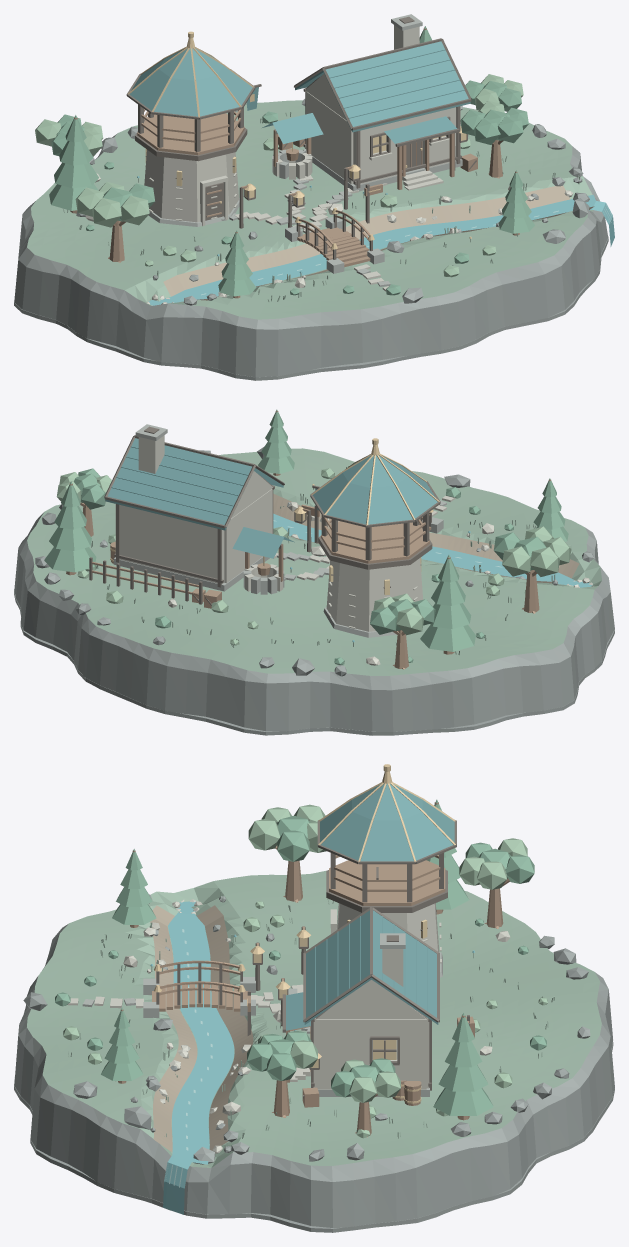
Rendered from creekside-yup-v03.glb.
3 views of the same model, one above another, from view 1: azimuth 30°, elevation 25°; view 2: azimuth 150°, elevation 25°; view 3: azimuth 270°, elevation 25° (orthographic). The views are drawn at different scales.
Visible parts, largest first — view 1: Terrain_Water__grass, Terrain_Water__cliff, Buildings_Bridge__roof, Buildings_Bridge__stone, Nature__leaf, Buildings_Bridge__wood_dark, Buildings_Bridge__wood, Terrain_Water__soil, Nature__leaf_light, Terrain_Water__water, Buildings_Bridge__stone_dark, Props_Paths__stone (+6 smaller); view 2: Terrain_Water__grass, Terrain_Water__cliff, Buildings_Bridge__roof, Buildings_Bridge__stone, Nature__leaf, Buildings_Bridge__wood_dark, Nature__leaf_light, Buildings_Bridge__wood, Buildings_Bridge__stone_dark, Terrain_Water__water, Terrain_Water__soil, Nature__wood (+5 smaller); view 3: Terrain_Water__grass, Terrain_Water__cliff, Buildings_Bridge__roof, Nature__leaf, Buildings_Bridge__stone, Terrain_Water__water, Terrain_Water__soil, Nature__leaf_light, Buildings_Bridge__wood, Buildings_Bridge__wood_dark, Nature__wood, Buildings_Bridge__stone_dark (+7 smaller).
Boxes of the visible parts, x1,y1,x2,y2 form: Terrain_Water__grass: (27, 100, 593, 319); Terrain_Water__cliff: (14, 99, 608, 380); Buildings_Bridge__roof: (129, 41, 470, 144); Buildings_Bridge__stone: (144, 25, 460, 226); Nature__leaf: (49, 26, 534, 296); Buildings_Bridge__wood_dark: (126, 16, 471, 259); Buildings_Bridge__wood: (137, 109, 454, 267); Terrain_Water__soil: (163, 185, 594, 300); Nature__leaf_light: (35, 74, 523, 277); Terrain_Water__water: (148, 194, 614, 305); Buildings_Bridge__stone_dark: (148, 14, 462, 273); Props_Paths__stone: (234, 175, 388, 291); Terrain_Water__grass: (27, 448, 601, 675); Terrain_Water__cliff: (14, 446, 614, 735); Buildings_Bridge__roof: (105, 438, 437, 558); Buildings_Bridge__stone: (115, 435, 423, 631); Nature__leaf: (44, 409, 568, 664); Buildings_Bridge__wood_dark: (104, 426, 440, 588); Nature__leaf_light: (56, 468, 571, 645); Buildings_Bridge__wood: (245, 514, 431, 581); Buildings_Bridge__stone_dark: (113, 424, 443, 637); Terrain_Water__water: (273, 513, 592, 587); Terrain_Water__soil: (273, 493, 579, 583); Nature__wood: (66, 411, 551, 669); Terrain_Water__grass: (27, 870, 601, 1167); Terrain_Water__cliff: (14, 894, 614, 1232); Buildings_Bridge__roof: (286, 783, 454, 1030); Nature__leaf: (55, 799, 546, 1115); Buildings_Bridge__stone: (290, 903, 441, 1089); Terrain_Water__water: (163, 901, 234, 1214); Terrain_Water__soil: (150, 905, 253, 1151); Nature__leaf_light: (63, 804, 547, 1138); Buildings_Bridge__wood: (152, 855, 445, 1082); Buildings_Bridge__wood_dark: (156, 820, 456, 1090); Nature__wood: (118, 802, 509, 1137); Buildings_Bridge__stone_dark: (143, 933, 442, 1096).
Size of the model in its own units: 30.16 by 11.98 by 24.82.
